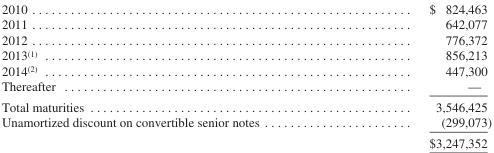table: (0, 1, 491, 149)
table column: (0, 1, 343, 149), (343, 1, 491, 149)
table row: (0, 78, 491, 96), (0, 96, 491, 114), (0, 114, 491, 132), (0, 132, 491, 149), (0, 31, 491, 47), (0, 62, 491, 78), (0, 1, 491, 16), (0, 16, 491, 31), (0, 47, 491, 62)
